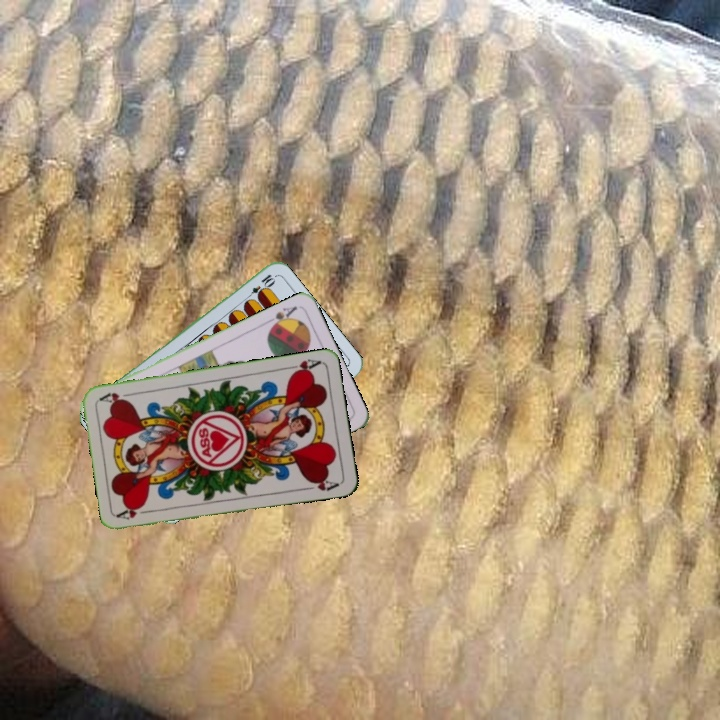E10: (242, 270, 277, 303)
HA: (282, 355, 323, 377), (115, 503, 155, 522)
SA: (263, 302, 300, 332)
